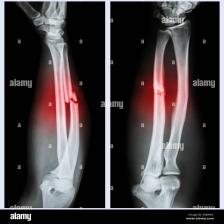open-compound-fracture: (10, 0, 196, 208)
